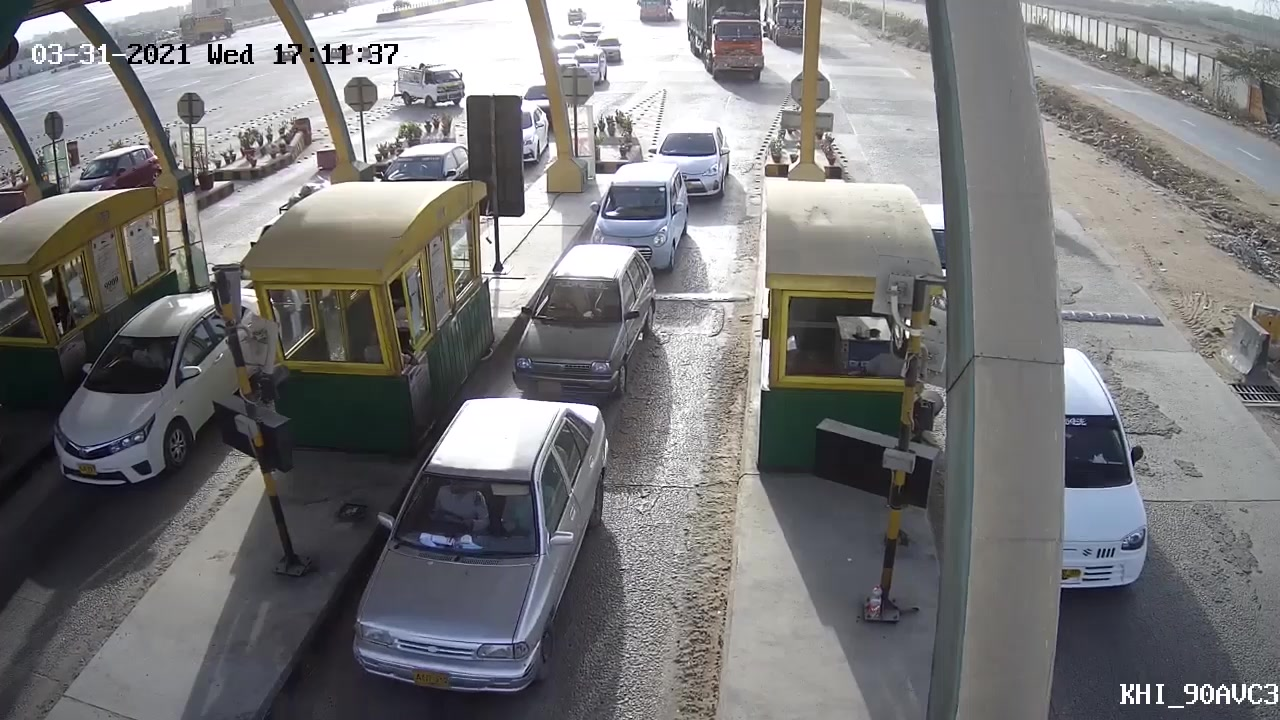F1: (353, 391, 605, 694), (498, 246, 658, 400), (590, 158, 691, 272)
